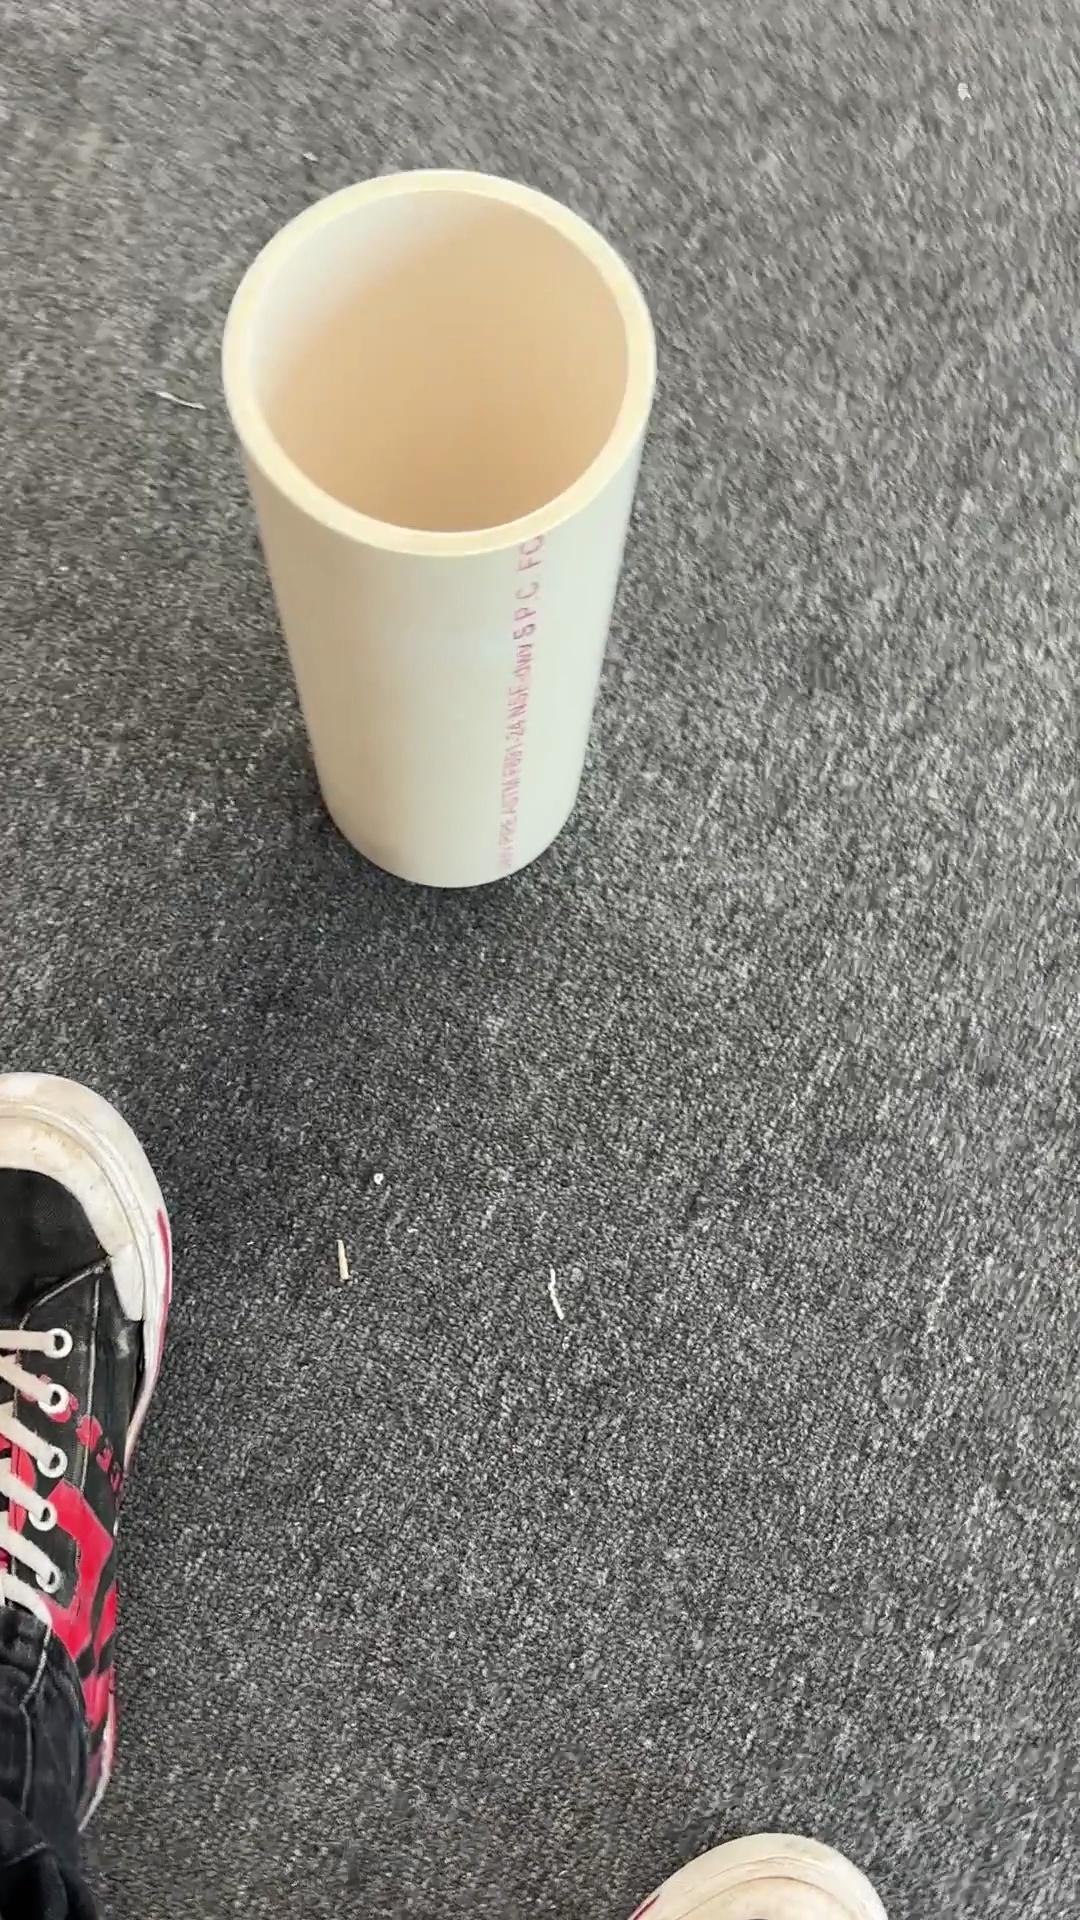CORAL: (218, 165, 659, 890)
